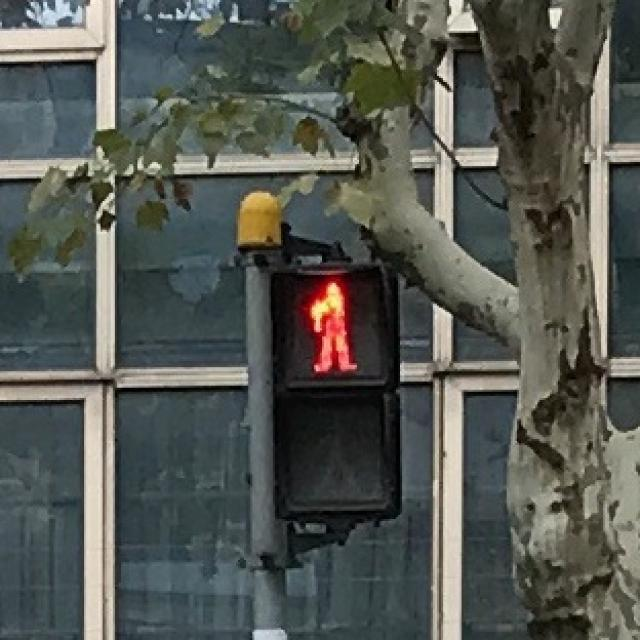red-crossing: (276, 270, 379, 379)
